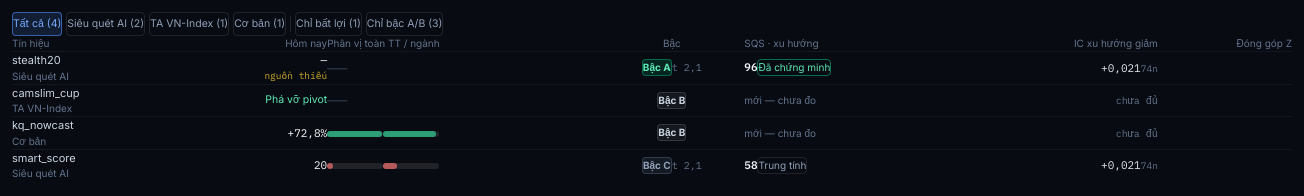
Test: SignalTableView › bảng: SQS + xu hướng, IC chế độ hôm nay (< 10 ngày -> chưa đủ), tín hiệu mới ghi 'mới', lọc tab / bất lợi / A–B
Step 1. Click the button "Cơ bản (1)" → (260, 24), box [233, 12, 286, 36]
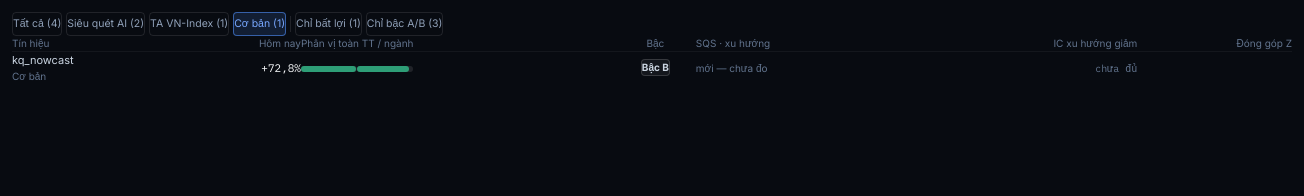
Step 2. Click the button "Tất cả (4)" → (37, 24), box [12, 12, 62, 36]
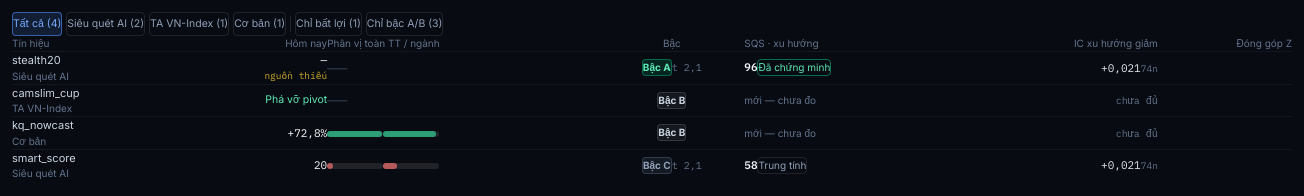
Step 3. Click the button "Chỉ bậc A/B (3)" → (405, 24), box [366, 12, 443, 36]
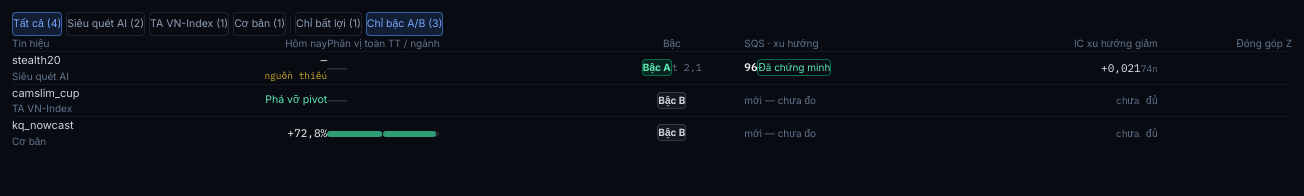
Step 4. Click the button "Chỉ bậc A/B (3)" → (405, 24), box [366, 12, 443, 36]
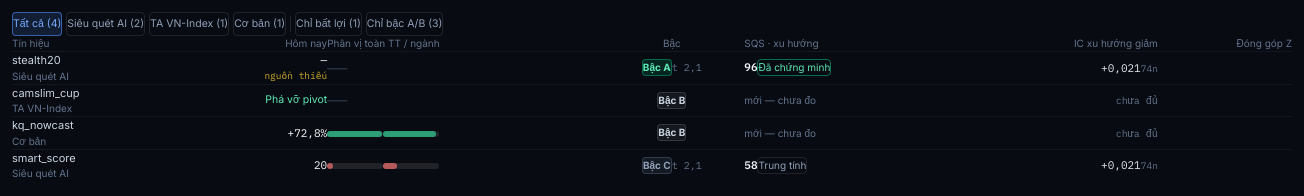
Step 5. Click the button "Chỉ bất lợi (1)" → (328, 24), box [295, 12, 362, 36]
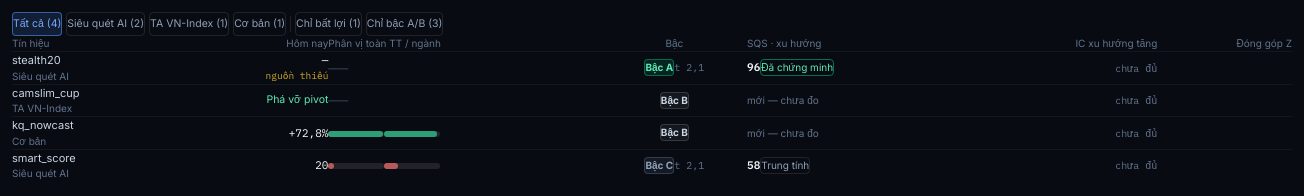
expect the cell "chưa đủ" in the row of "stealth20" is shown: met, box [1115, 62, 1157, 74]
